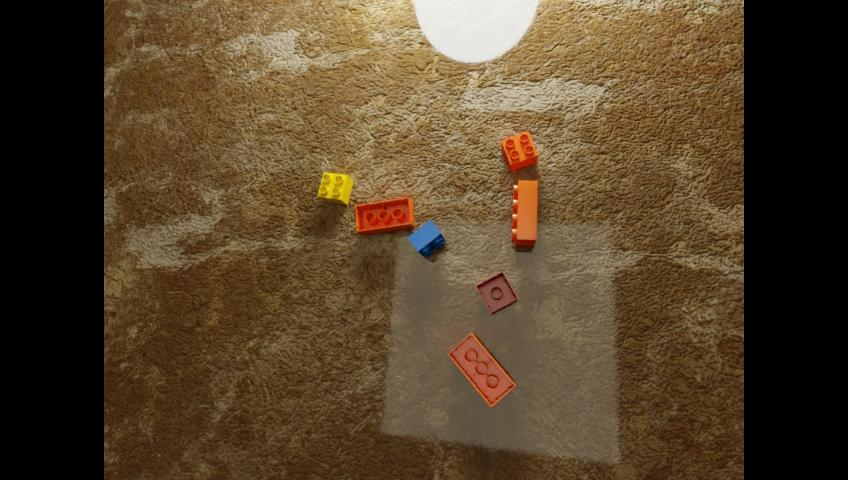2x2_blue: (408, 219, 444, 257)
2x2_orange: (501, 131, 537, 171)
2x2_red: (476, 271, 517, 313)
2x2_yellow: (317, 172, 352, 204)
4x2_orange: (448, 333, 514, 407), (355, 197, 414, 235), (511, 180, 536, 246)
